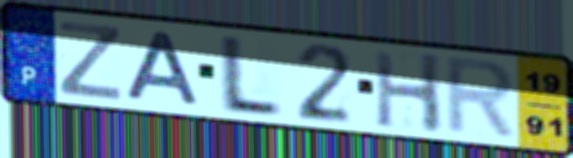2: (293, 41, 354, 125)
A: (122, 29, 204, 109)
H: (371, 49, 446, 136)
L: (215, 33, 286, 120)
R: (442, 54, 520, 143)
Z: (56, 18, 124, 103)
